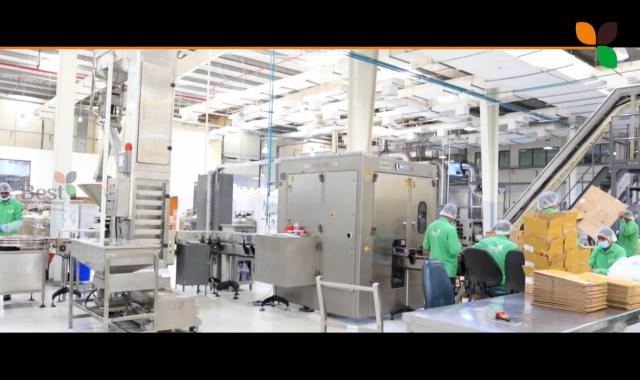hairnet: (534, 192, 556, 209), (439, 202, 457, 221), (597, 226, 618, 241), (495, 219, 512, 234), (620, 208, 634, 219)
